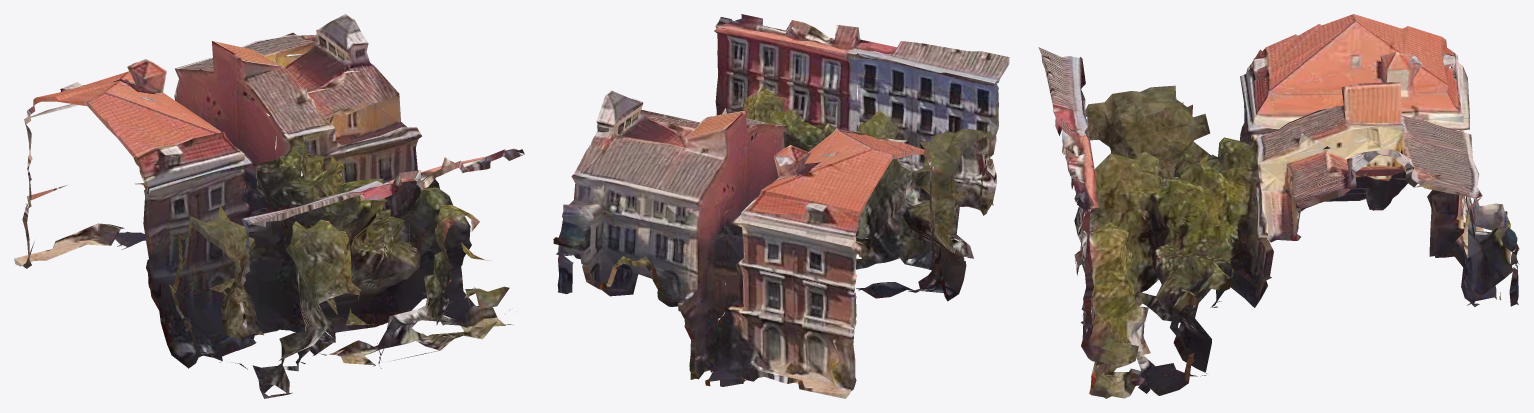
The picture shows the model from 3 angles, left to right: view 1: azimuth 30°, elevation 25°; view 2: azimuth 150°, elevation 25°; view 3: azimuth 270°, elevation 25°; orthographic projection. The views are drawn at different scales.
Visible parts, largest first — view 1: Mesh_0; view 2: Mesh_0; view 3: Mesh_0.
Part boxes in pixels (x1,y1,x2,y2): Mesh_0: (14, 14, 524, 398); Mesh_0: (553, 14, 1009, 398); Mesh_0: (1038, 14, 1519, 398).
Size of the model in its own units: 33.42 by 22.62 by 41.5.
1 material, 1 textured.
